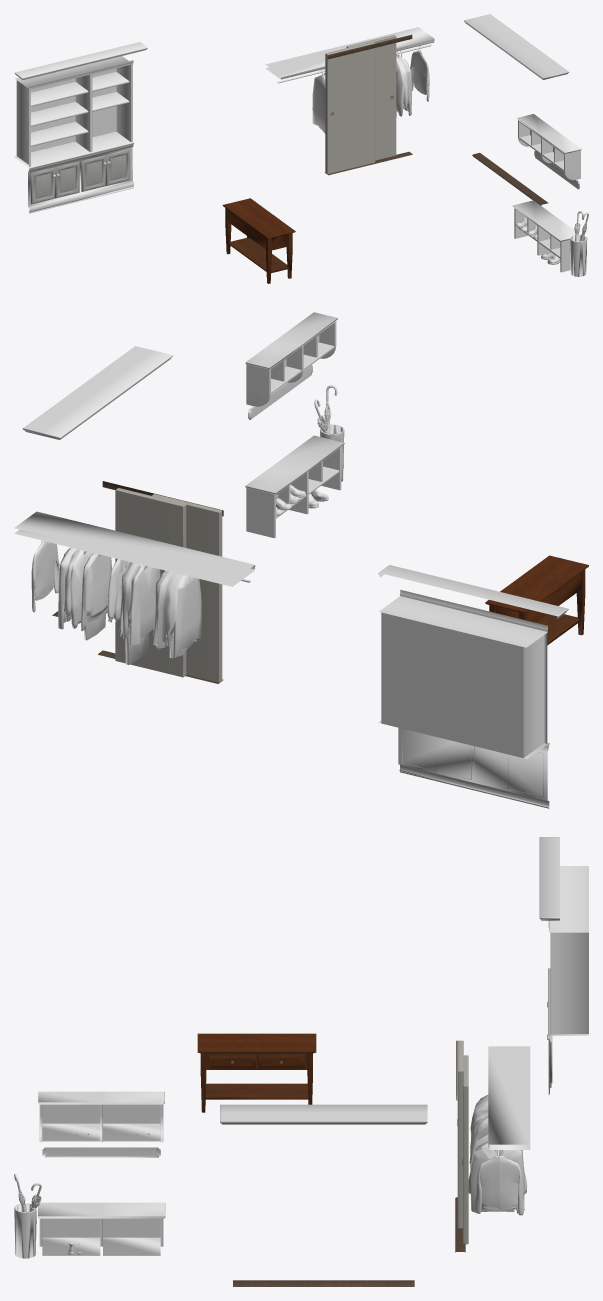
The model's file is Hall_Furniture.fbx.
3 renders of one model, top to bottom at view 1: azimuth 30°, elevation 25°; view 2: azimuth 150°, elevation 25°; view 3: azimuth 270°, elevation 25°, orthographic. The views are drawn at different scales.
Parts seen in each view (by area): view 1: Hall-Shelf-Planks-Wood-Paint-White_0.1, Hall-Laundry-Sliding-Door_0.1, Hall-Cassie-Moroccan-Shelf_0.1, Hall-Foyer-Table_0.1, Hall-Shelf-Panel-Wood-Paint-White_0.1, Hall-Laundry-Sliding-Door_0.2, Hall-Clothes-Hanging-01, Hall-Trim-Basic-Door_0.1, Hall-Wood-Trim.material01_0.1, Hall-Umbrella-Container-Container_0.1; view 2: Hall-Shelf-Planks-Wood-Paint-White_0.1, Hall-Clothes-Hanging-01, Hall-Cassie-Moroccan-Shelf_0.1, Hall-Trim-Basic-Door_0.1, Hall-Laundry-Sliding-Door_0.2, Hall-Laundry-Sliding-Door_0.1, Hall-Foyer-Table_0.1; view 3: Hall-Cassie-Moroccan-Shelf_0.1, Hall-Shelf-Planks-Wood-Paint-White_0.1, Hall-Foyer-Table_0.1, Hall-Trim-Basic-Door_0.1, Hall-Clothes-Hanging-01, Hall-Wood-Trim.material01_0.1, Hall-Laundry-Sliding-Door_0.1, Hall-Laundry-Sliding-Door_0.2, Hall-Umbrella-Container-Container_0.1.
Boxes of the visible parts, x1,y1,x2,y2 form: Hall-Shelf-Planks-Wood-Paint-White_0.1: [14, 14, 569, 213]; Hall-Laundry-Sliding-Door_0.1: [325, 42, 375, 174]; Hall-Cassie-Moroccan-Shelf_0.1: [512, 114, 581, 272]; Hall-Foyer-Table_0.1: [222, 198, 295, 283]; Hall-Shelf-Panel-Wood-Paint-White_0.1: [31, 149, 130, 204]; Hall-Laundry-Sliding-Door_0.2: [346, 34, 396, 160]; Hall-Clothes-Hanging-01: [312, 46, 429, 133]; Hall-Trim-Basic-Door_0.1: [265, 27, 434, 79]; Hall-Wood-Trim.material01_0.1: [324, 34, 548, 205]; Hall-Umbrella-Container-Container_0.1: [570, 235, 587, 276]; Hall-Shelf-Planks-Wood-Paint-White_0.1: [22, 346, 568, 808]; Hall-Clothes-Hanging-01: [31, 540, 201, 664]; Hall-Cassie-Moroccan-Shelf_0.1: [245, 312, 344, 538]; Hall-Trim-Basic-Door_0.1: [14, 511, 255, 586]; Hall-Laundry-Sliding-Door_0.2: [115, 488, 186, 677]; Hall-Laundry-Sliding-Door_0.1: [152, 494, 222, 683]; Hall-Foyer-Table_0.1: [485, 555, 588, 645]; Hall-Cassie-Moroccan-Shelf_0.1: [38, 1091, 165, 1255]; Hall-Shelf-Planks-Wood-Paint-White_0.1: [220, 837, 588, 1124]; Hall-Foyer-Table_0.1: [197, 1033, 316, 1112]; Hall-Trim-Basic-Door_0.1: [488, 1046, 530, 1149]; Hall-Clothes-Hanging-01: [468, 1095, 527, 1215]; Hall-Wood-Trim.material01_0.1: [233, 1040, 465, 1286]; Hall-Laundry-Sliding-Door_0.1: [457, 1040, 463, 1228]; Hall-Laundry-Sliding-Door_0.2: [462, 1055, 468, 1244]; Hall-Umbrella-Container-Container_0.1: [14, 1203, 36, 1258].
Size of the model in its own units: 8.79 by 7.81 by 2.78.
